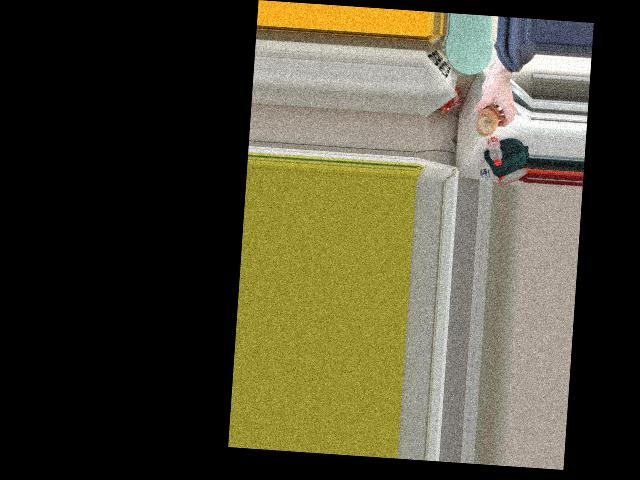sweet_potato: (471, 99, 502, 139)
